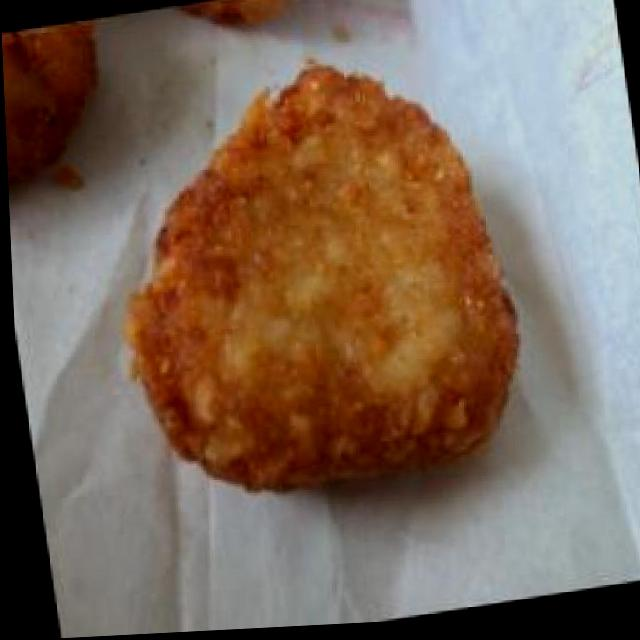triangle_hash_brown: (82, 34, 538, 525)
